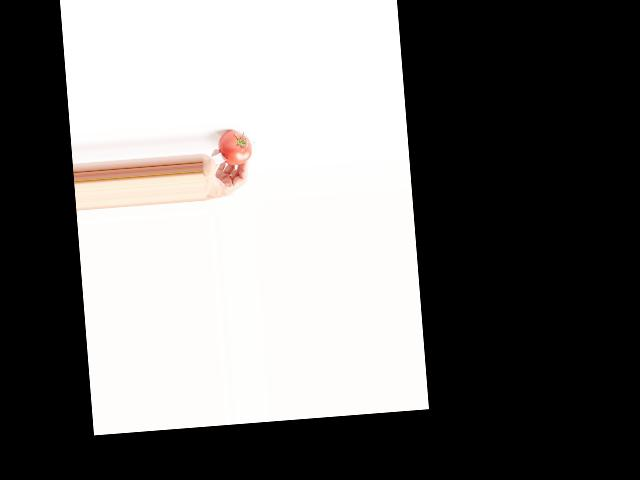tomato: (217, 129, 253, 166)
